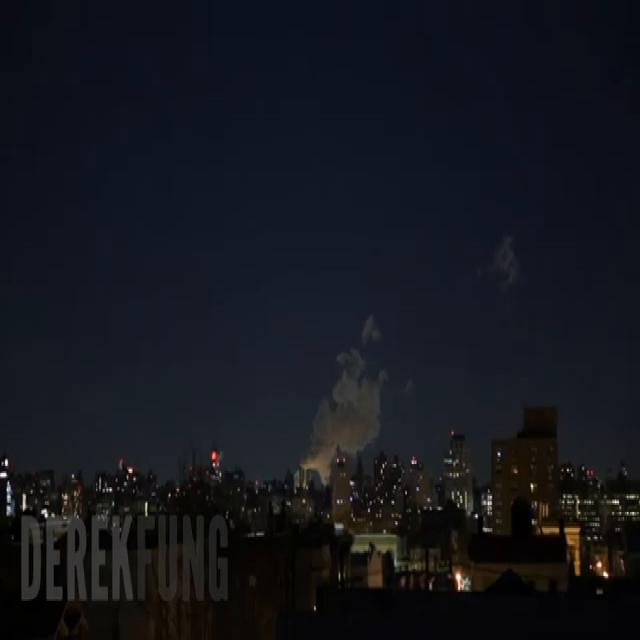smoke: (295, 316, 387, 508)
